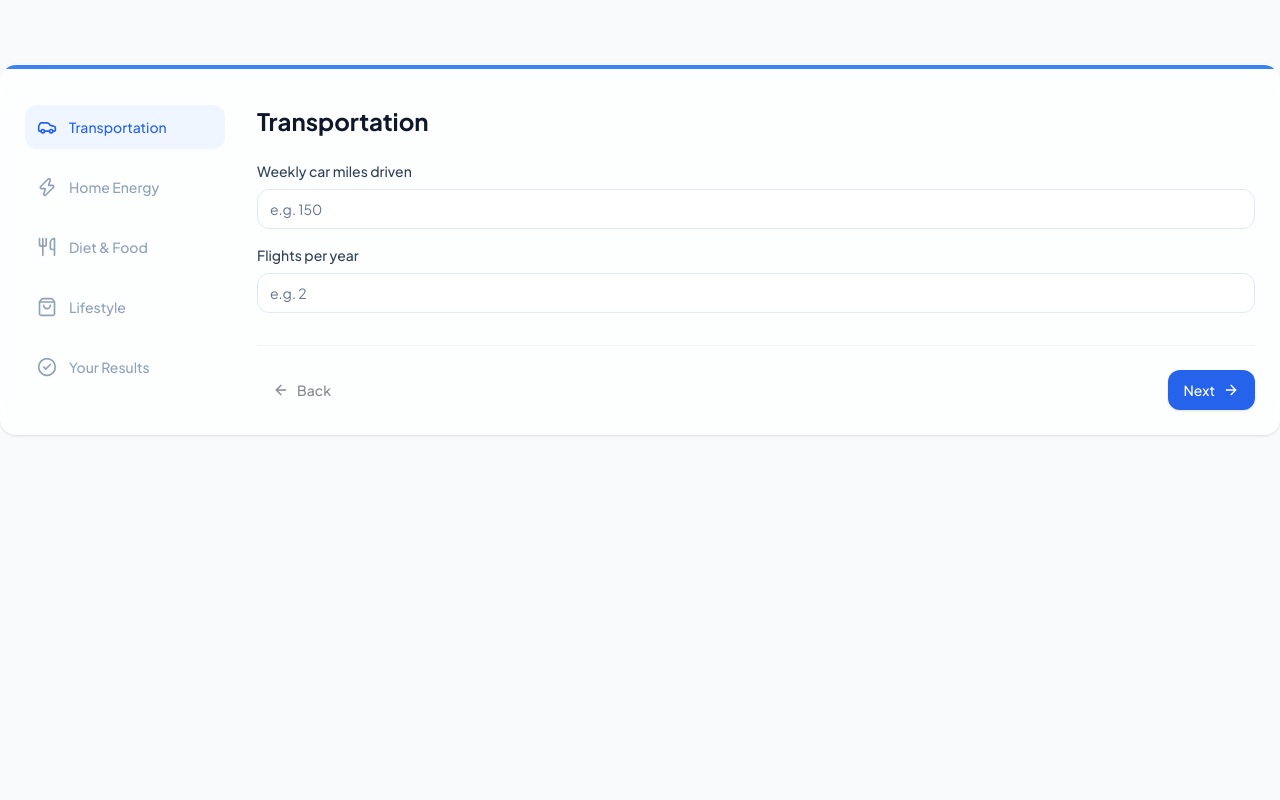
Test case: Calculator › shows "Go to Dashboard" button for authenticated users
// Navigate through all steps
Click the button "Next" at (1211, 390), box [1168,370,1255,410]
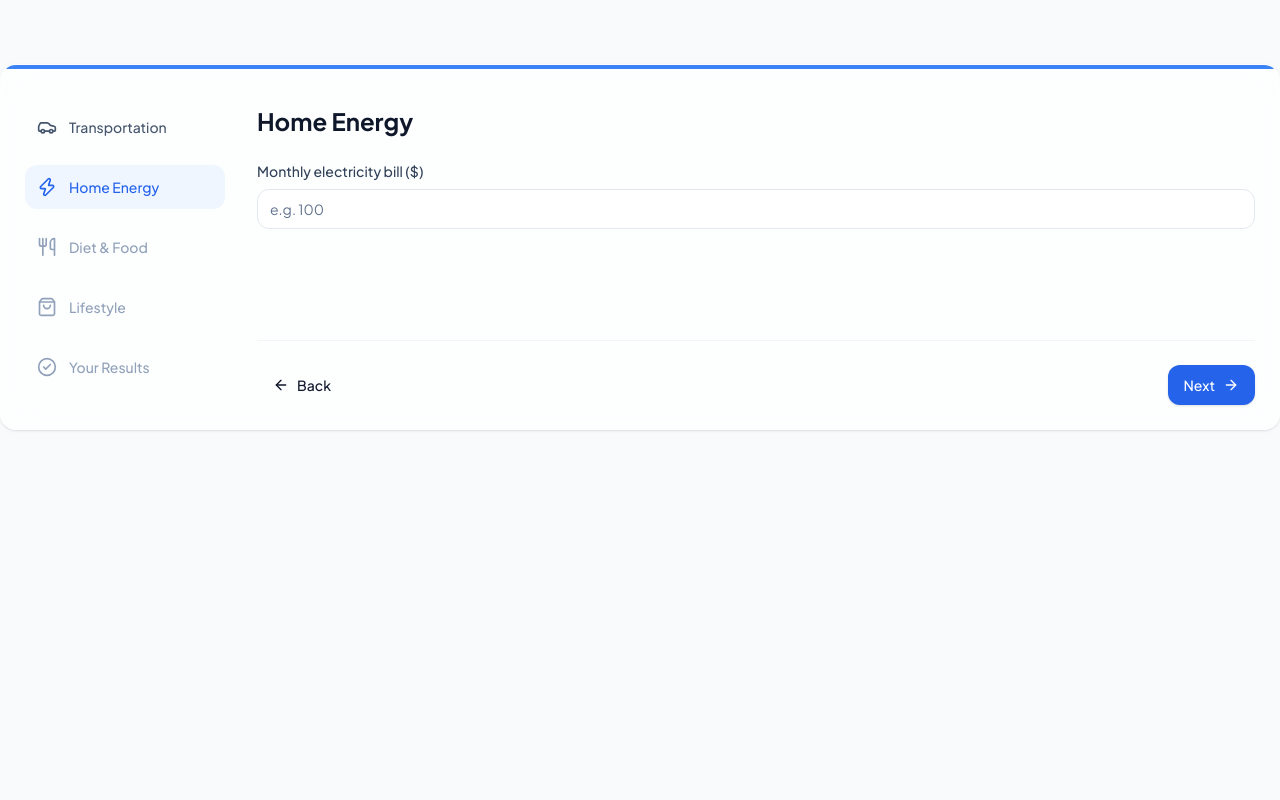
Expected: the heading "Home Energy" is shown, [257,106,413,136]
Click the button "Next" at (1211, 385), box [1168,365,1255,405]
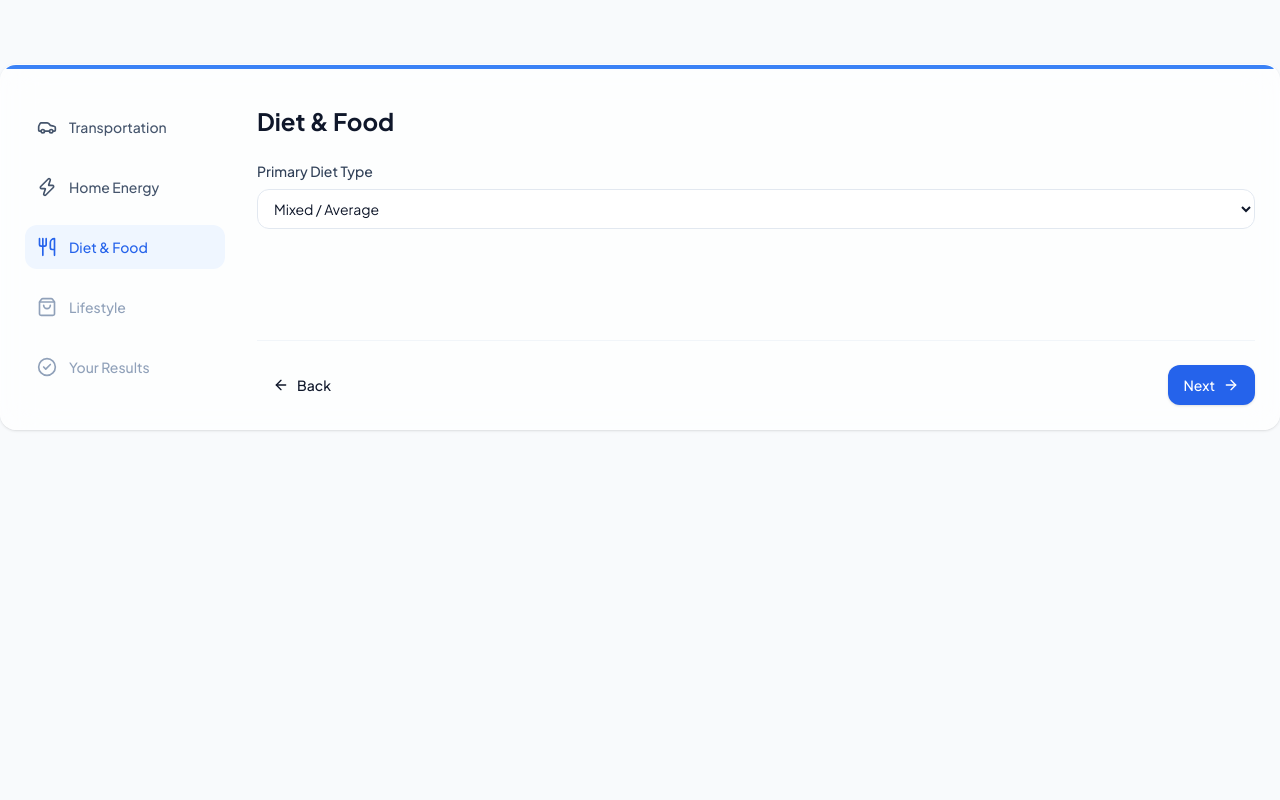
Expected: the heading "Diet & Food" is shown, [257,106,394,136]
Click the button "Next" at (1211, 385), box [1168,365,1255,405]
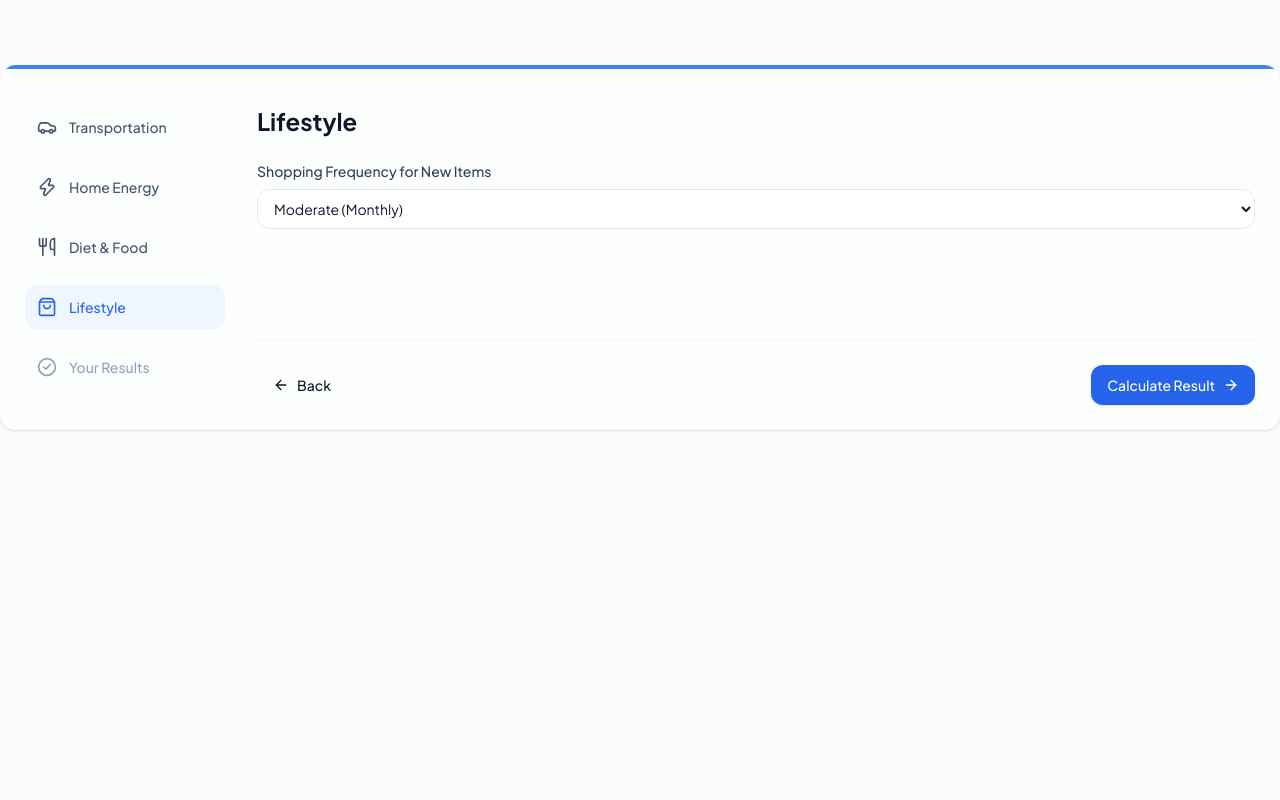
Expected: the heading "Lifestyle" is shown, [257,106,357,136]
// Click Calculate Result
Click the button "Calculate Result" at (1173, 385), box [1091,365,1255,405]
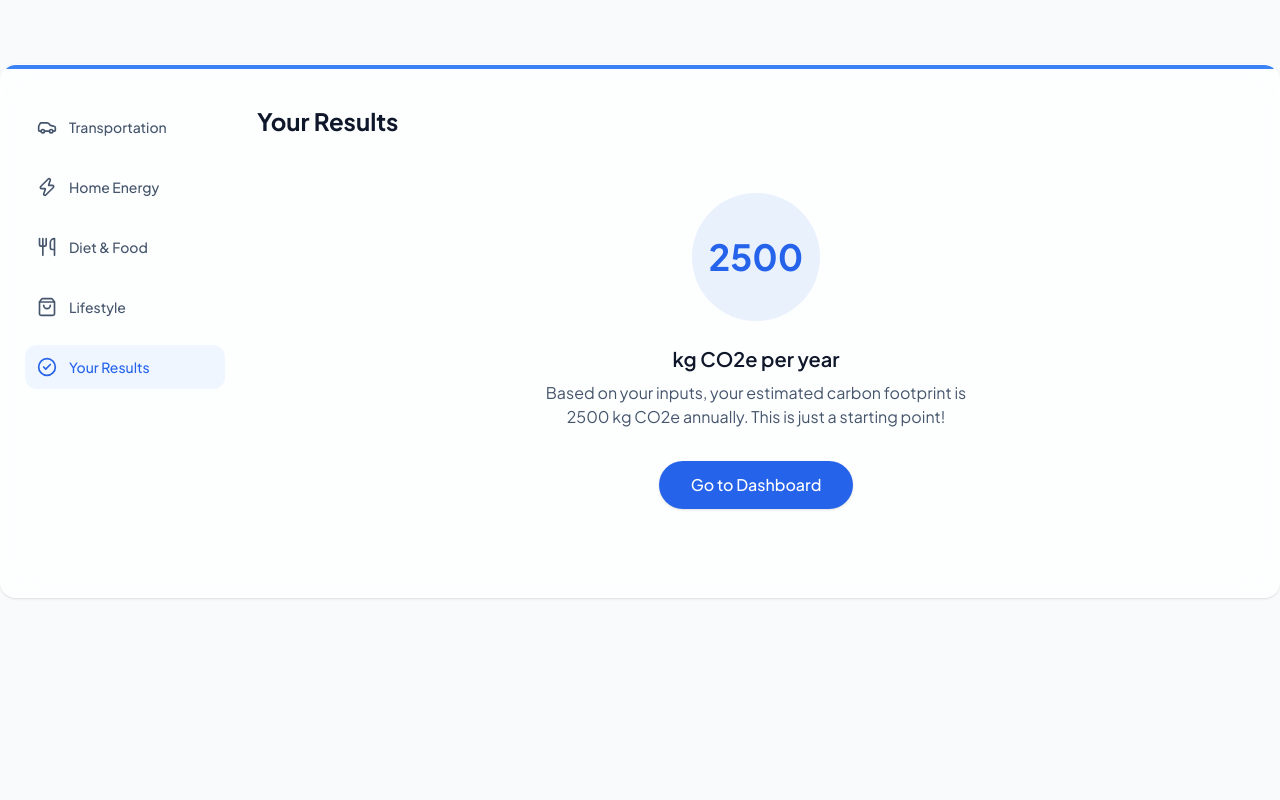
Expected: the button "Go to Dashboard" is shown, [659,461,853,509]
